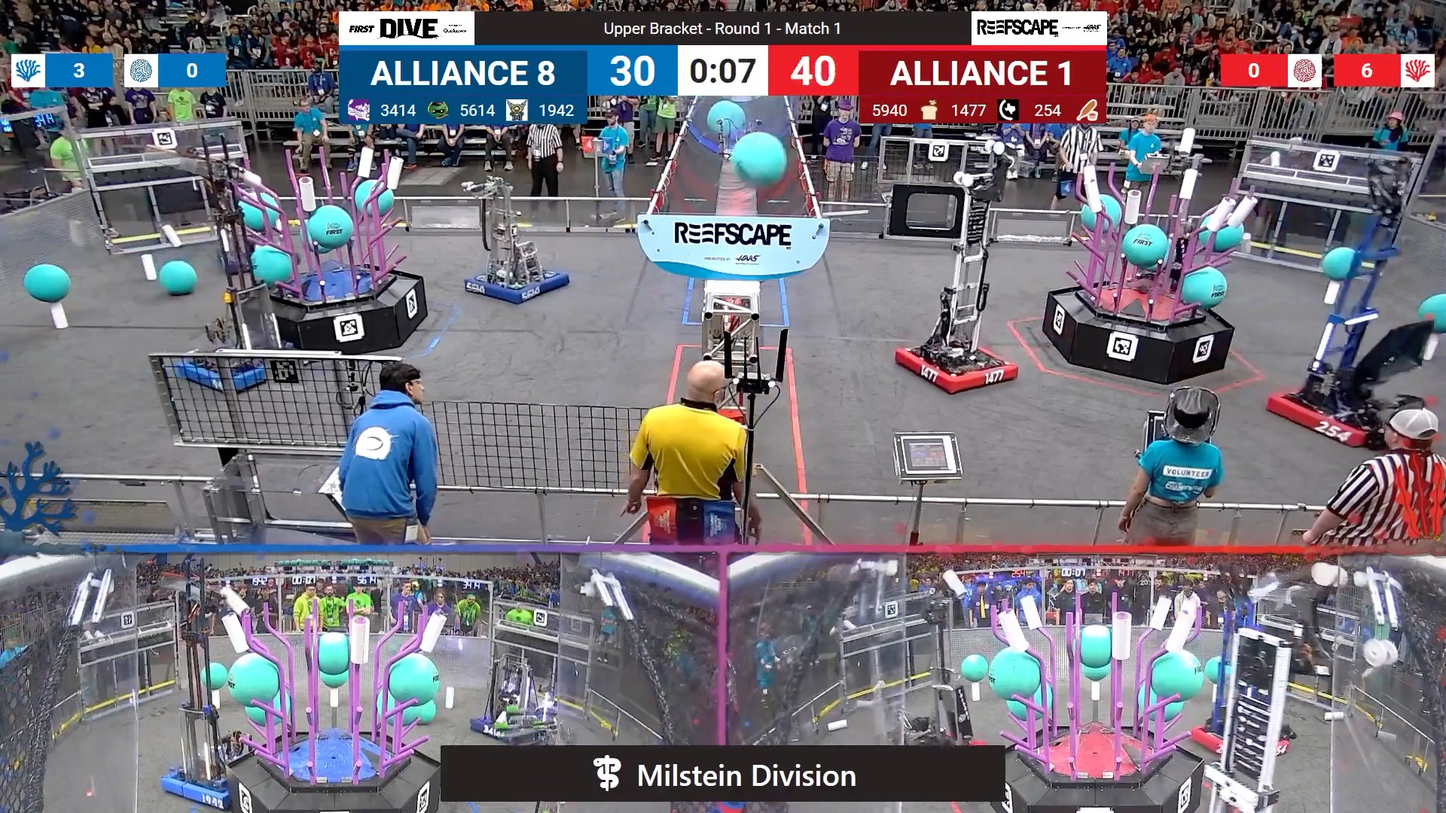bumpers: (1258, 369, 1446, 462), (882, 332, 1029, 399), (158, 340, 309, 399), (458, 264, 581, 309), (161, 750, 241, 810), (465, 700, 565, 747)
